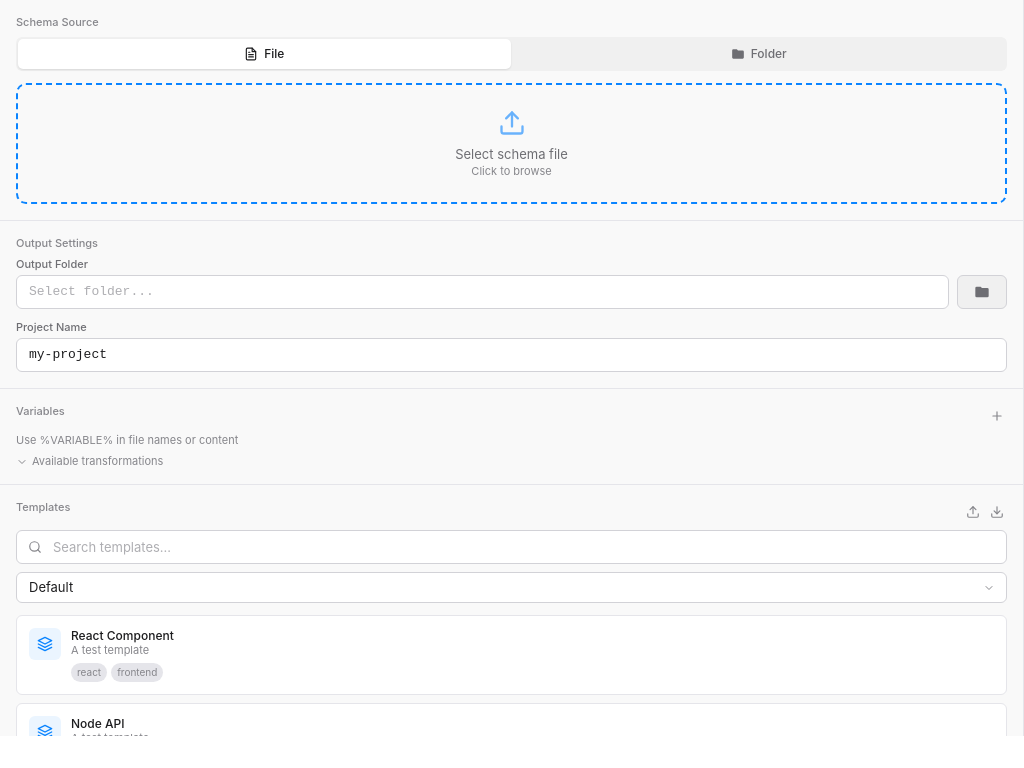
Test: LeftPanel › Templates Section › search and filtering › shows clear button when search has value
Check: the text "React Component" is shown, box [71,628,174,644]
Type "test" into the field with placeholder "Search templates...". click: [512, 547]
box: [16,530,1007,564]
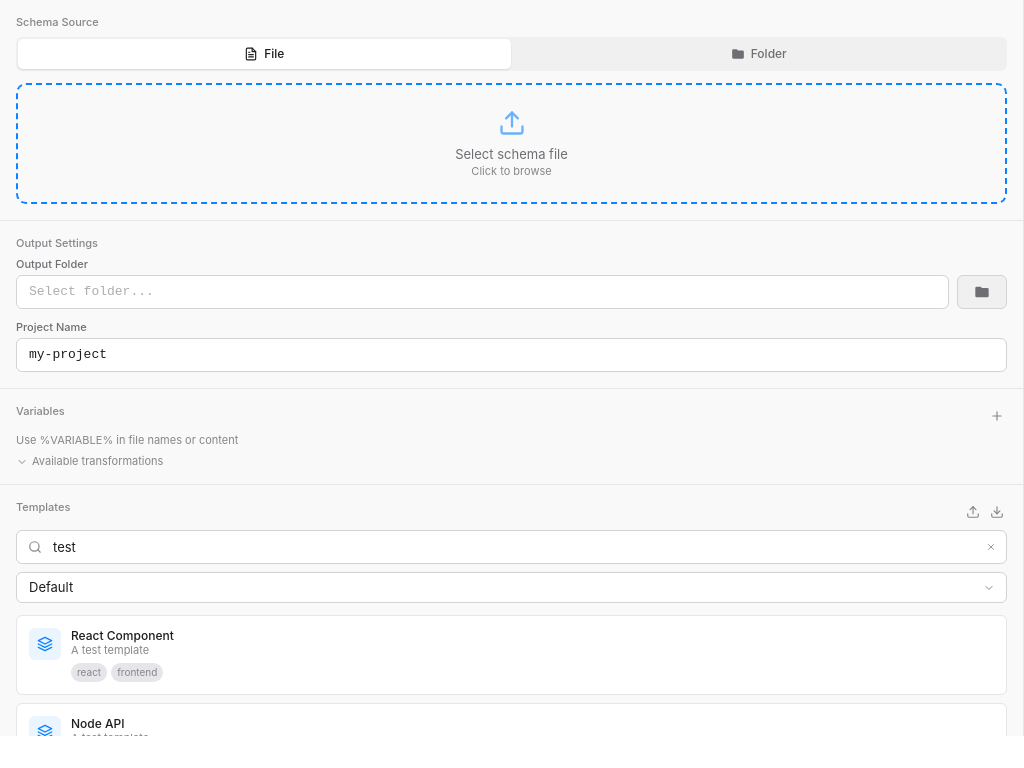
Check: the button named "Clear search" is shown
Click the button named "Clear search". click: [991, 547]
box: [983,539,999,555]
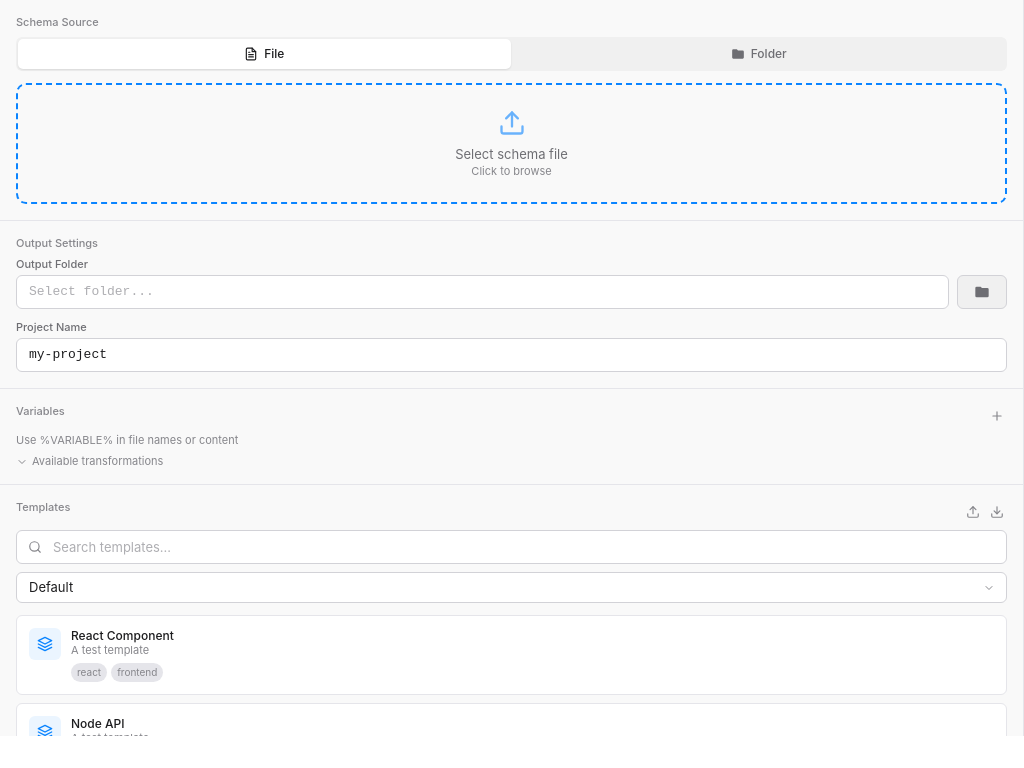
Check: the field with placeholder "Search templates..." is empty, box [16,530,1007,564]
